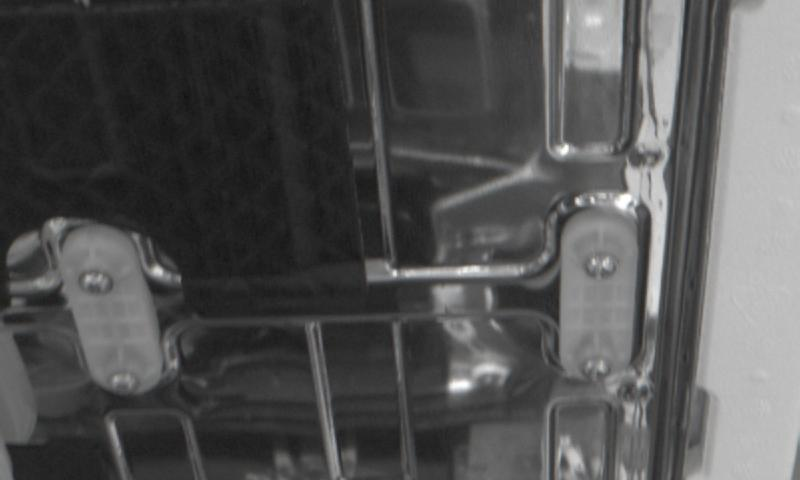vida-ok: (586, 247, 629, 292), (71, 258, 111, 303), (99, 363, 142, 403), (575, 353, 615, 391)
